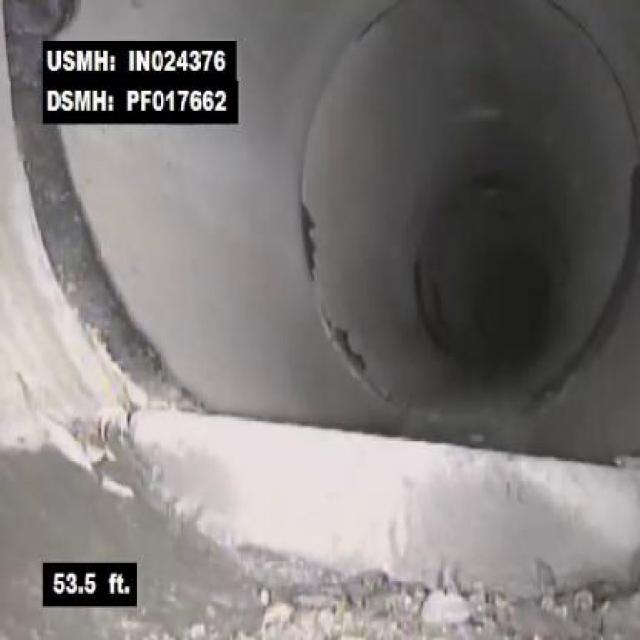Obstacle: (140, 359, 638, 626)
